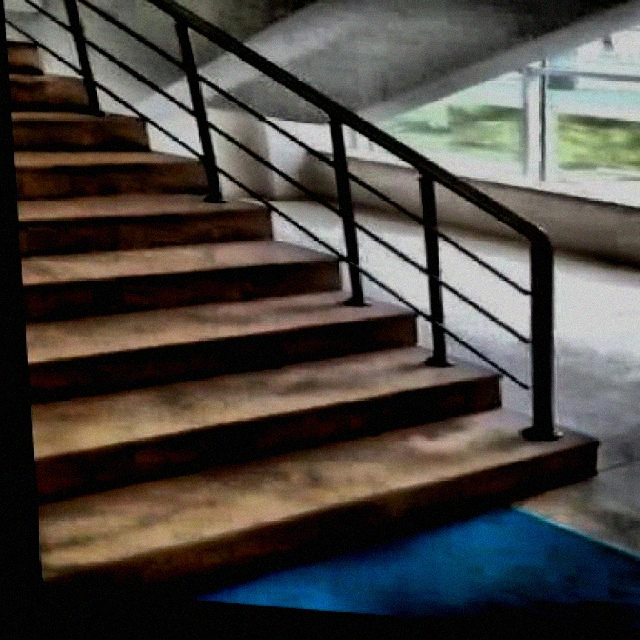stair: (3, 0, 640, 638)
